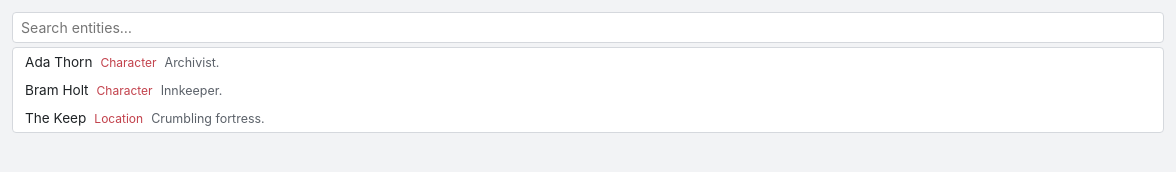
M2-S11 entity picker › search input › shows empty state message when no results match
The width and height of the screenshot is (1176, 172).
Check: the text "Ada Thorn" is shown, box [25,54,92,70]
In the search field: (588, 28) [12,12,1164,43], type "zzznomatch"
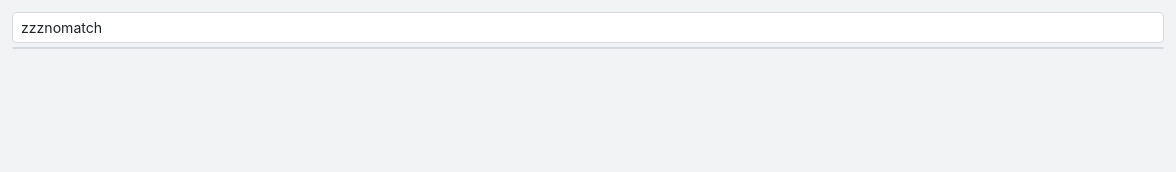
Check: the option "Ada Thorn" is gone
Check: no options are shown
